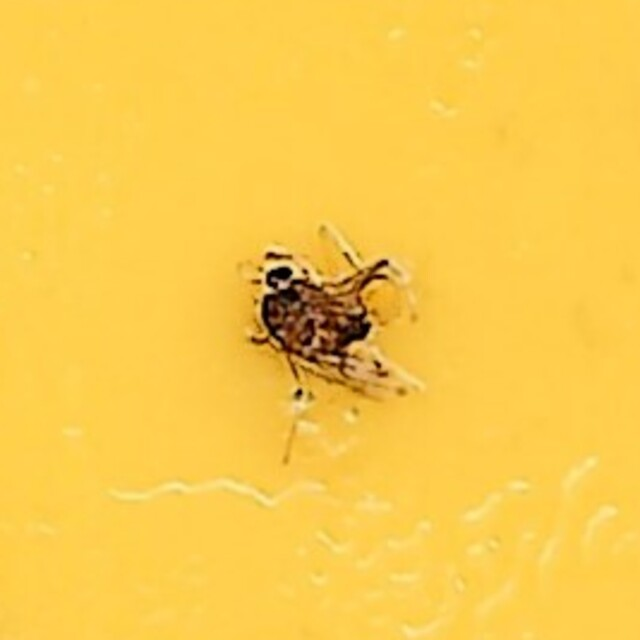Nematocera: (240, 245, 400, 395)
